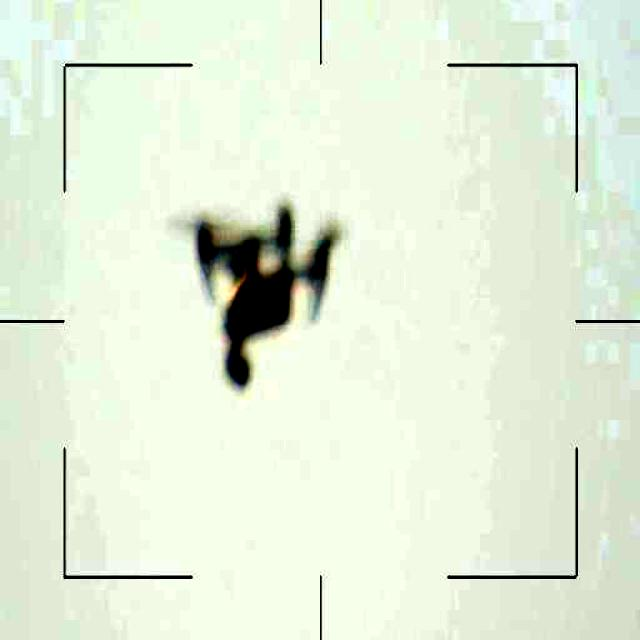bird: (179, 210, 342, 396)
